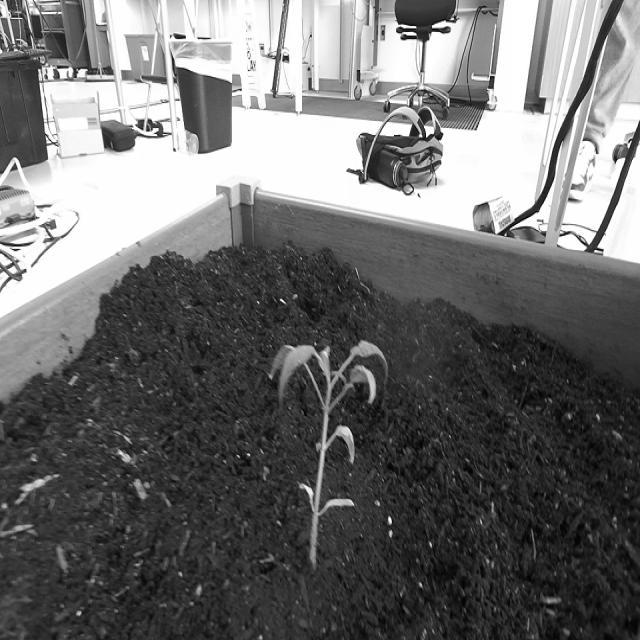Healthy: (256, 313, 391, 583)
